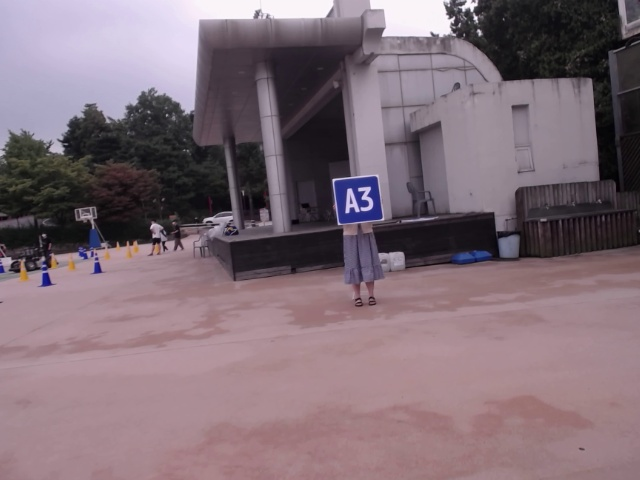delivery_a3: (333, 175, 385, 225)
